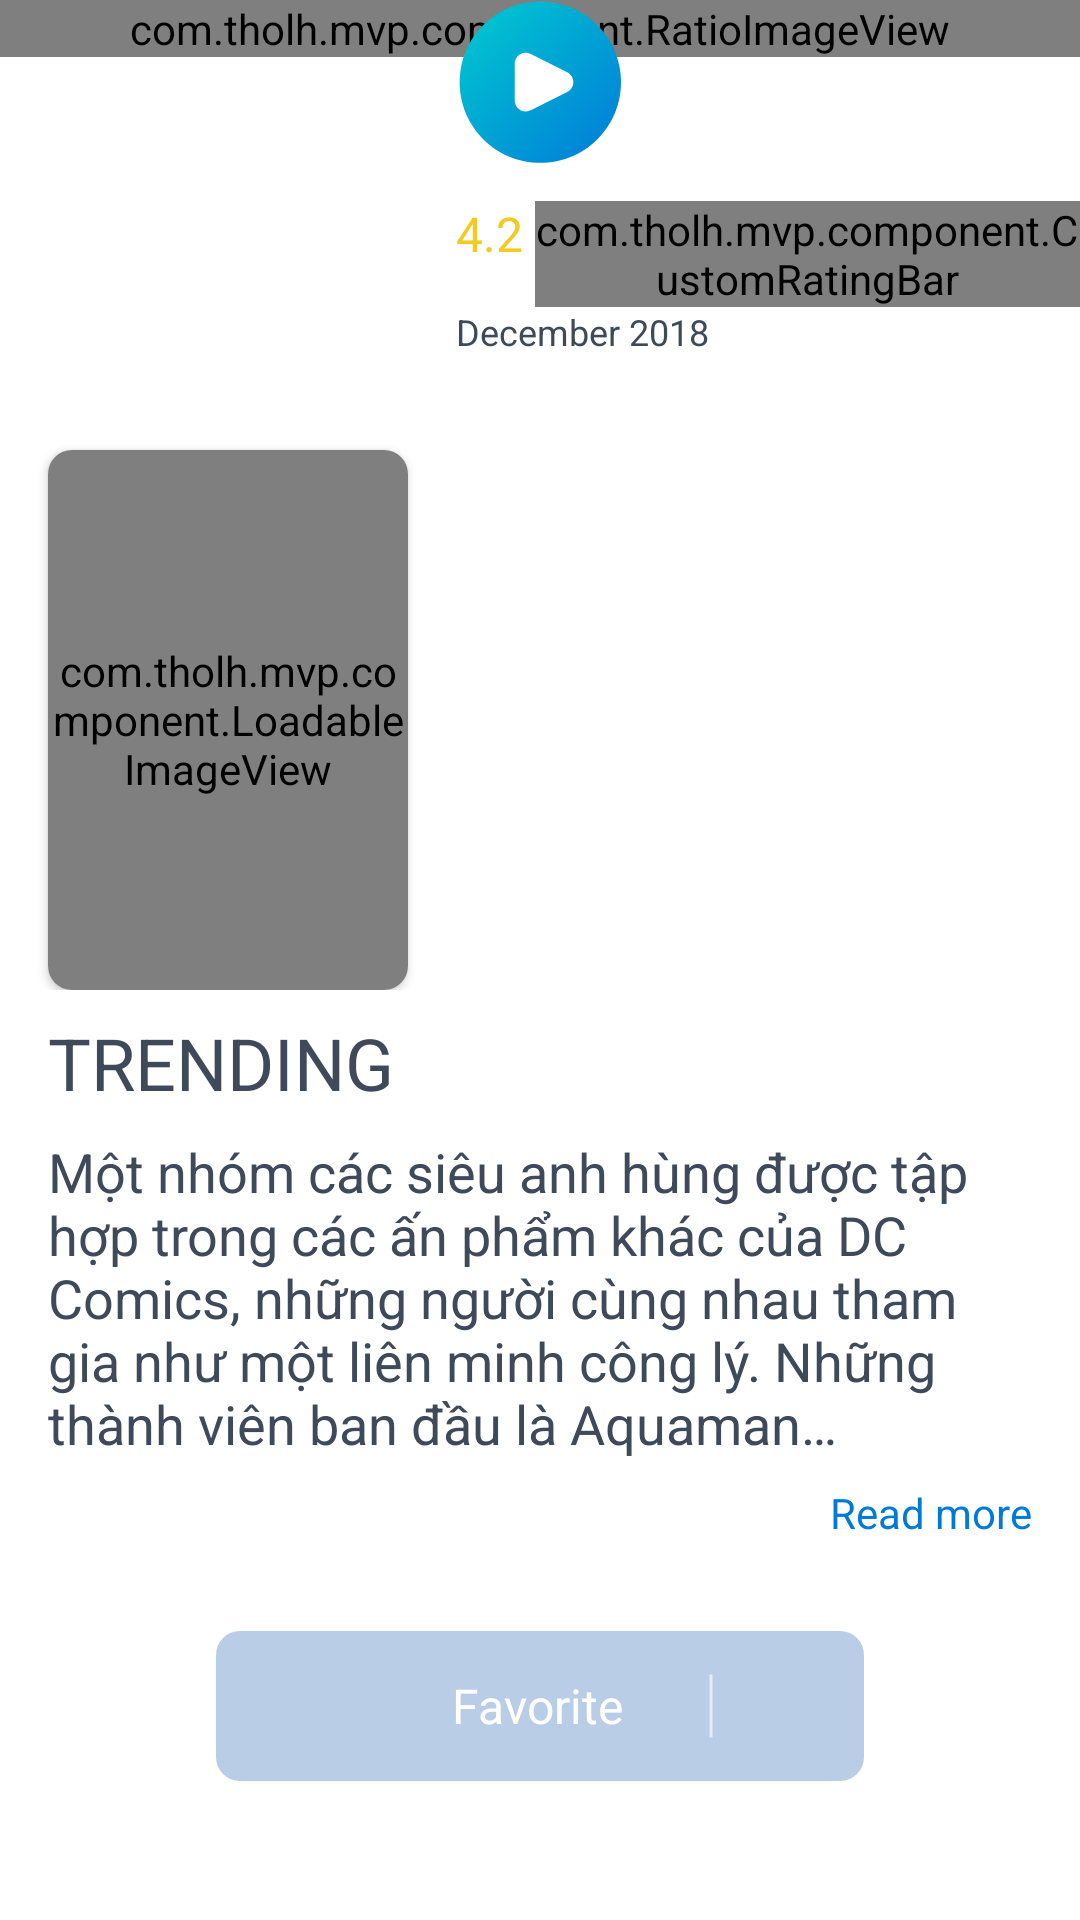

Icons on this 1080px x 1920px Android screen, each with the point to tap as [x,y]:
play: [539,81]
